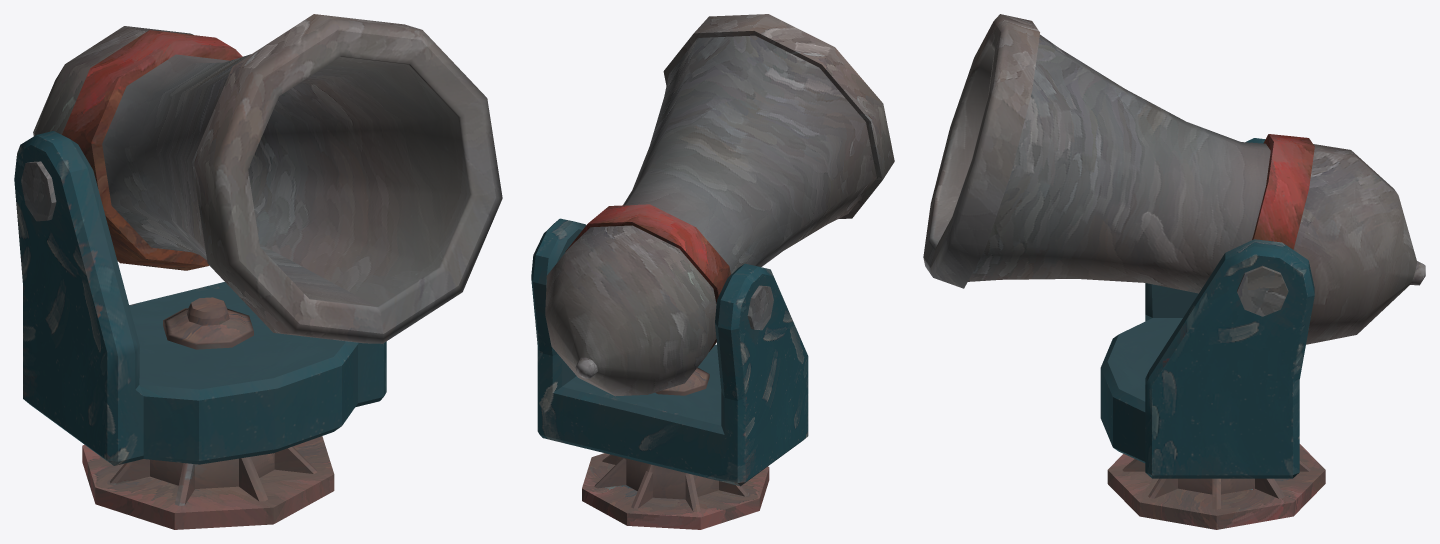
File: Cannon_alfa_05.fbx
The picture shows the model from 3 angles, left to right: view 1: azimuth 30°, elevation 25°; view 2: azimuth 150°, elevation 25°; view 3: azimuth 270°, elevation 25°; orthographic projection. The views are drawn at different scales.
Parts seen in each view (by area): view 1: cannon_demo_cen; view 2: cannon_demo_cen; view 3: cannon_demo_cen.
Boxes of the visible parts, left/top/right/bottom form: cannon_demo_cen: left=14, top=14, right=502, bottom=529; cannon_demo_cen: left=531, top=14, right=894, bottom=529; cannon_demo_cen: left=923, top=14, right=1425, bottom=529.
Bounding box in the file's own units: 1.72 × 3.12 × 3.1.
1 material, 1 textured.
